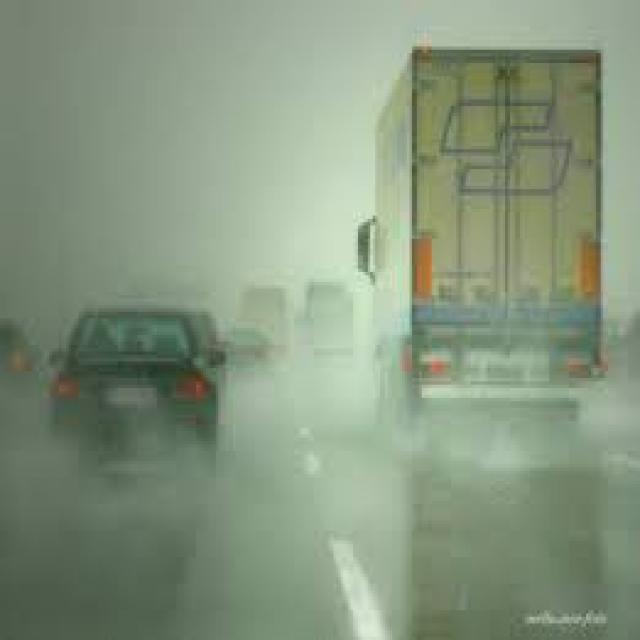bus: (358, 50, 606, 474), (302, 278, 358, 382), (238, 282, 287, 375)
car: (47, 292, 213, 514), (188, 295, 226, 405), (216, 315, 267, 385), (2, 315, 40, 401)
